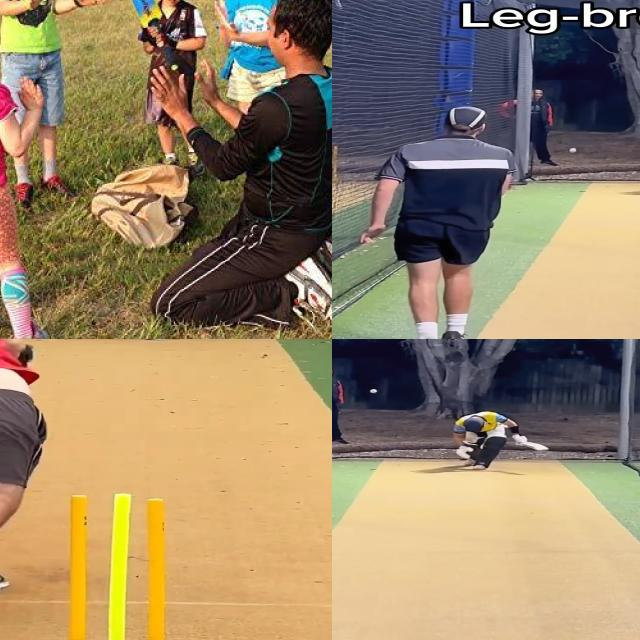Cricket ball: (369, 388, 379, 394), (569, 148, 577, 153)
Stumps: (48, 493, 182, 640)
